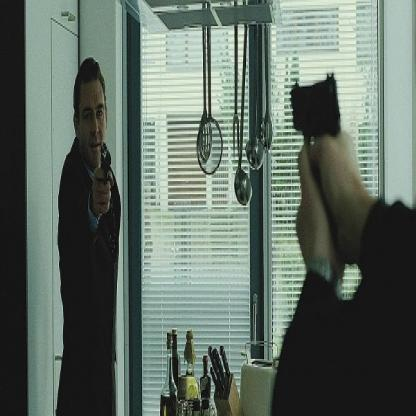Guns: (290, 68, 344, 156), (98, 139, 112, 194)
